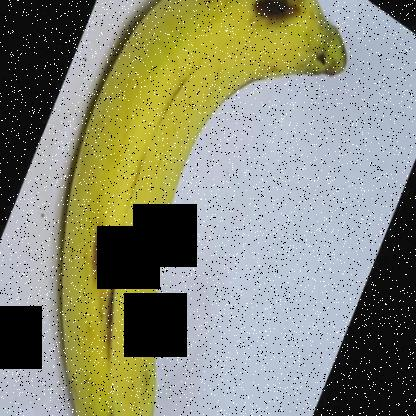freshripe: (49, 1, 362, 416)
